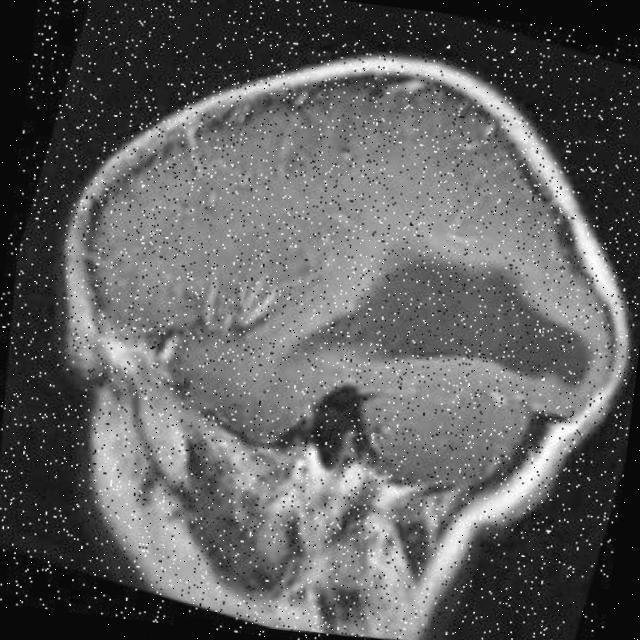LMCI: (314, 194, 539, 419)
